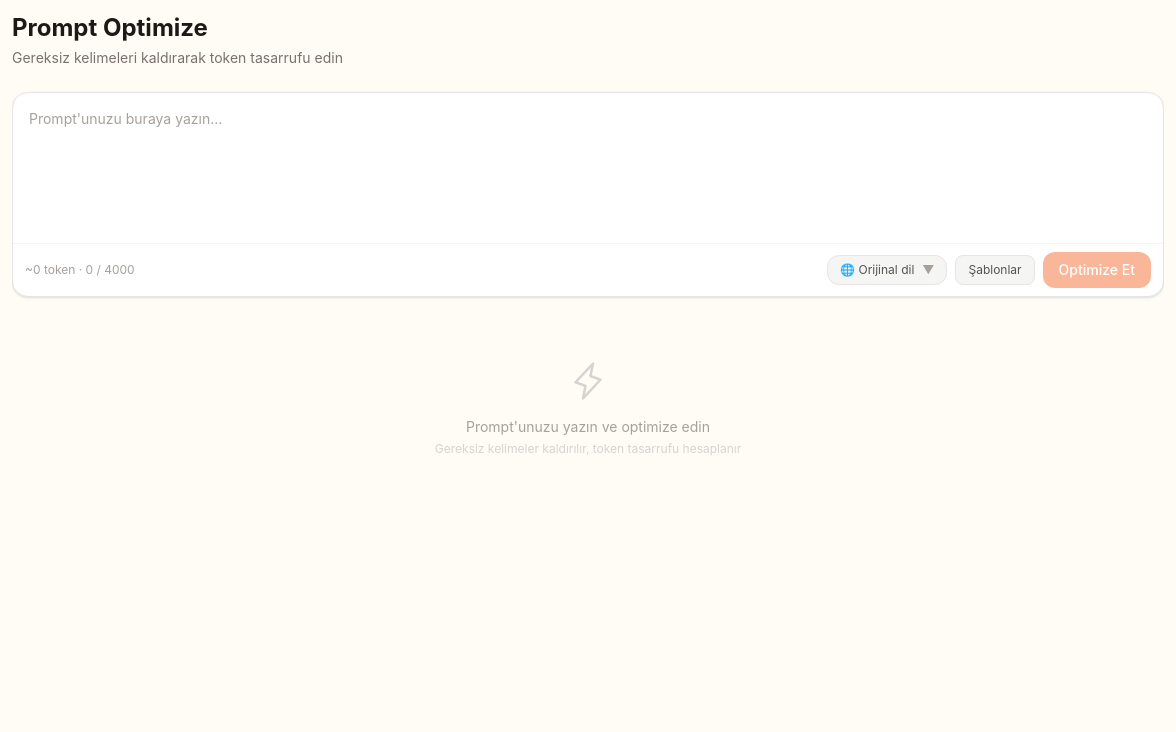
it: Optimize — şablonlar › şablon seçince liste kapanmalı
Click the button "Şablonlar": [995, 270] box [956,255,1035,285]
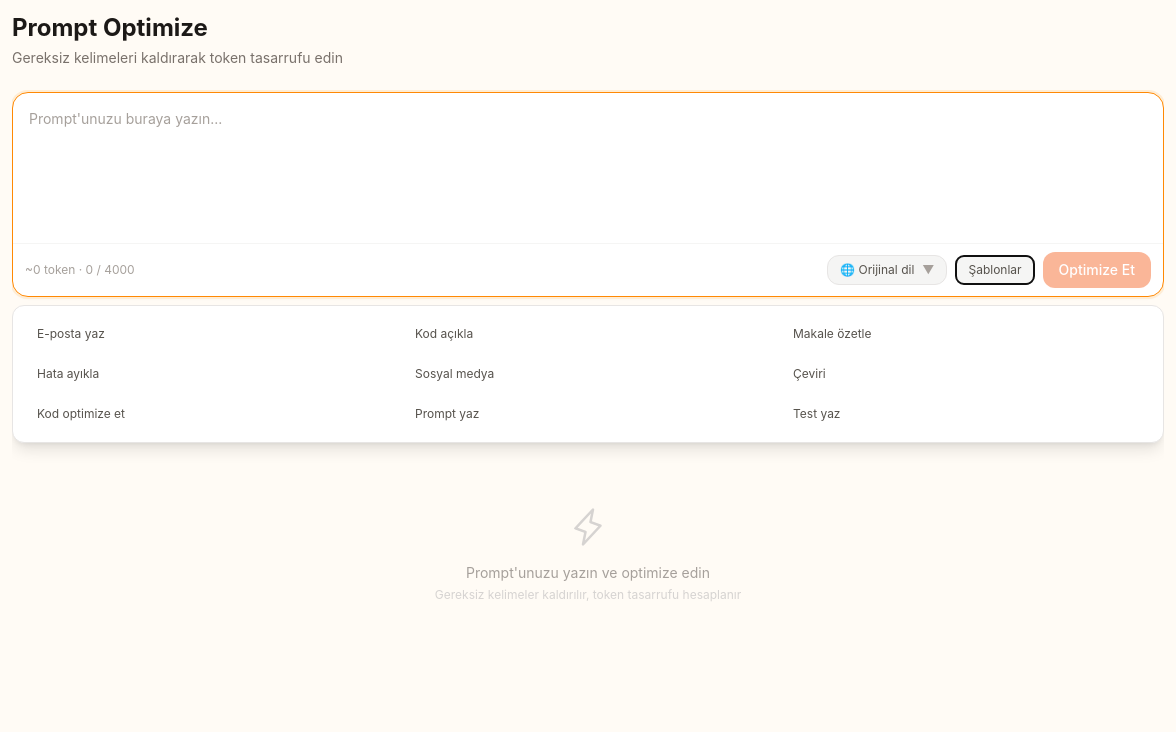
Click the button "E-posta yaz": [71, 334] box [25,318,395,350]
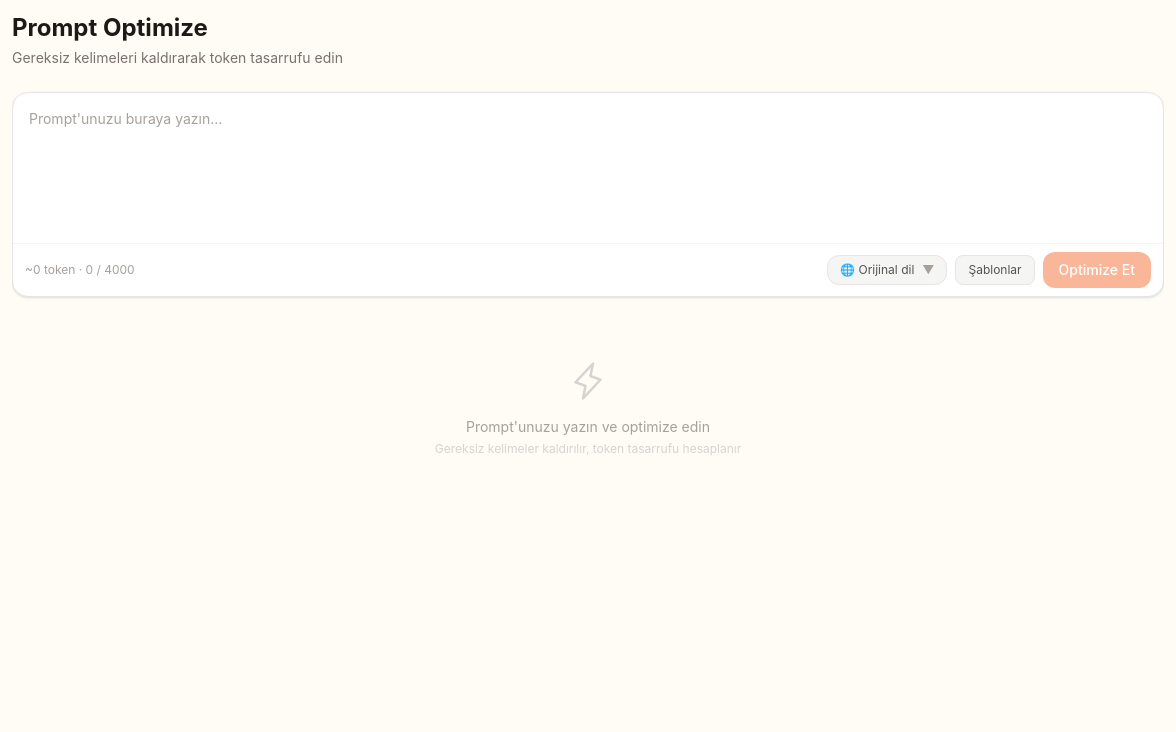
Expected: the button "E-posta yaz" is gone
